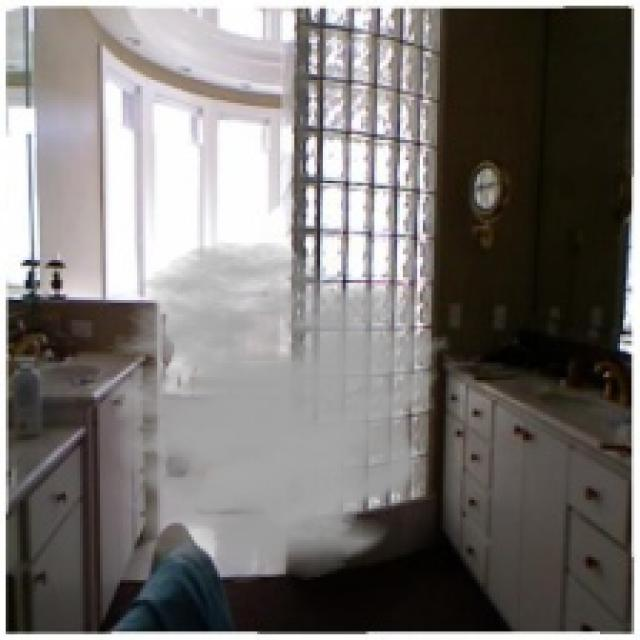smoke: (69, 240, 452, 583)
